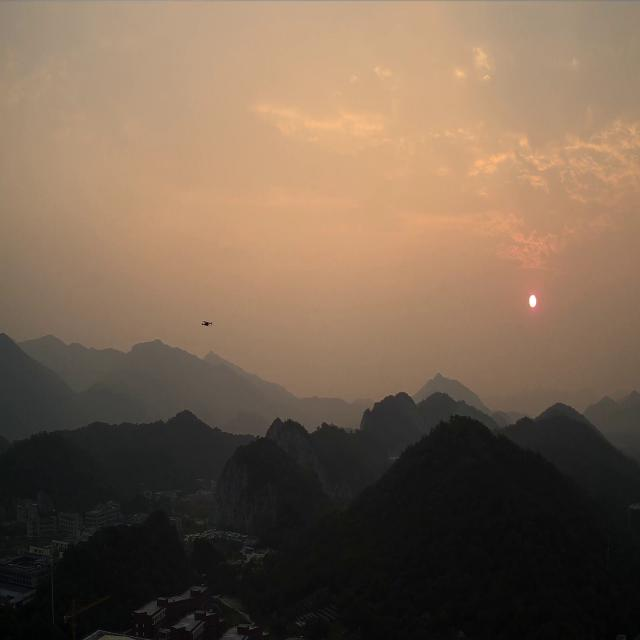UAV: (200, 320, 214, 328)
